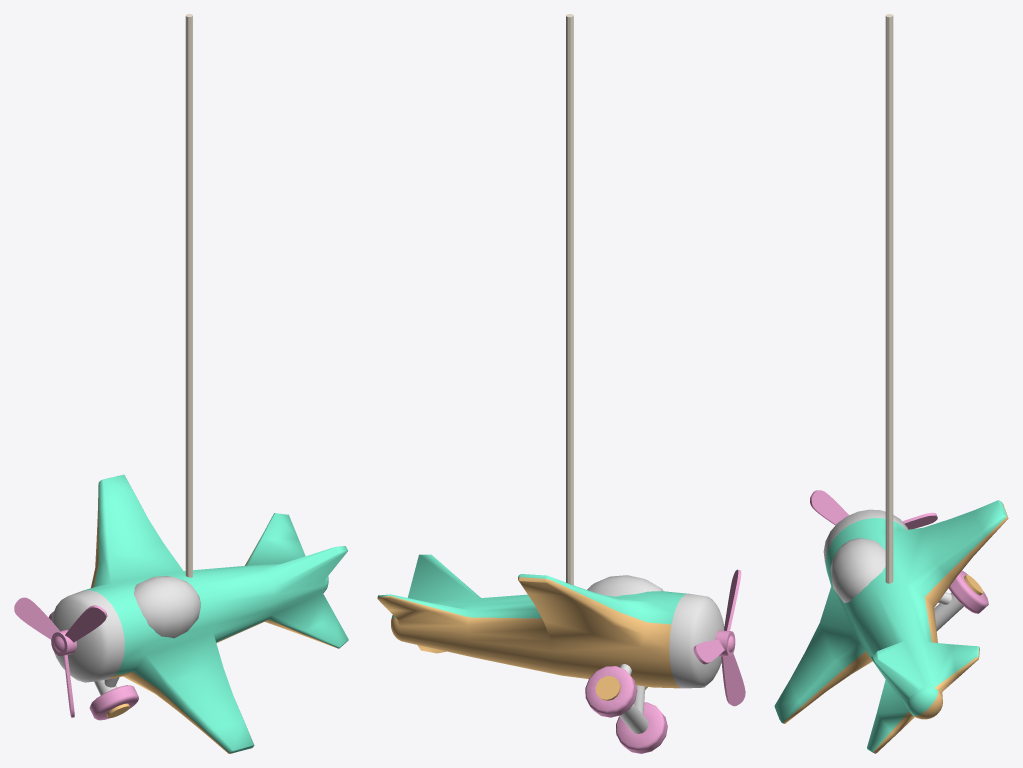
File: Aircraft_Small_01.FBX
The picture shows the model from 3 angles, left to right: view 1: azimuth 30°, elevation 25°; view 2: azimuth 150°, elevation 25°; view 3: azimuth 270°, elevation 25°; orthographic projection. The views are drawn at different scales.
Parts seen in each view (by area): view 1: Aircraft_Small_01; view 2: Aircraft_Small_01; view 3: Aircraft_Small_01.
Part boxes in pixels (x1,y1,x2,y2): Aircraft_Small_01: (14, 14, 348, 753); Aircraft_Small_01: (377, 14, 745, 753); Aircraft_Small_01: (774, 14, 1008, 753).
Bounding box in the file's own units: 6.92 × 15 × 4.52.
